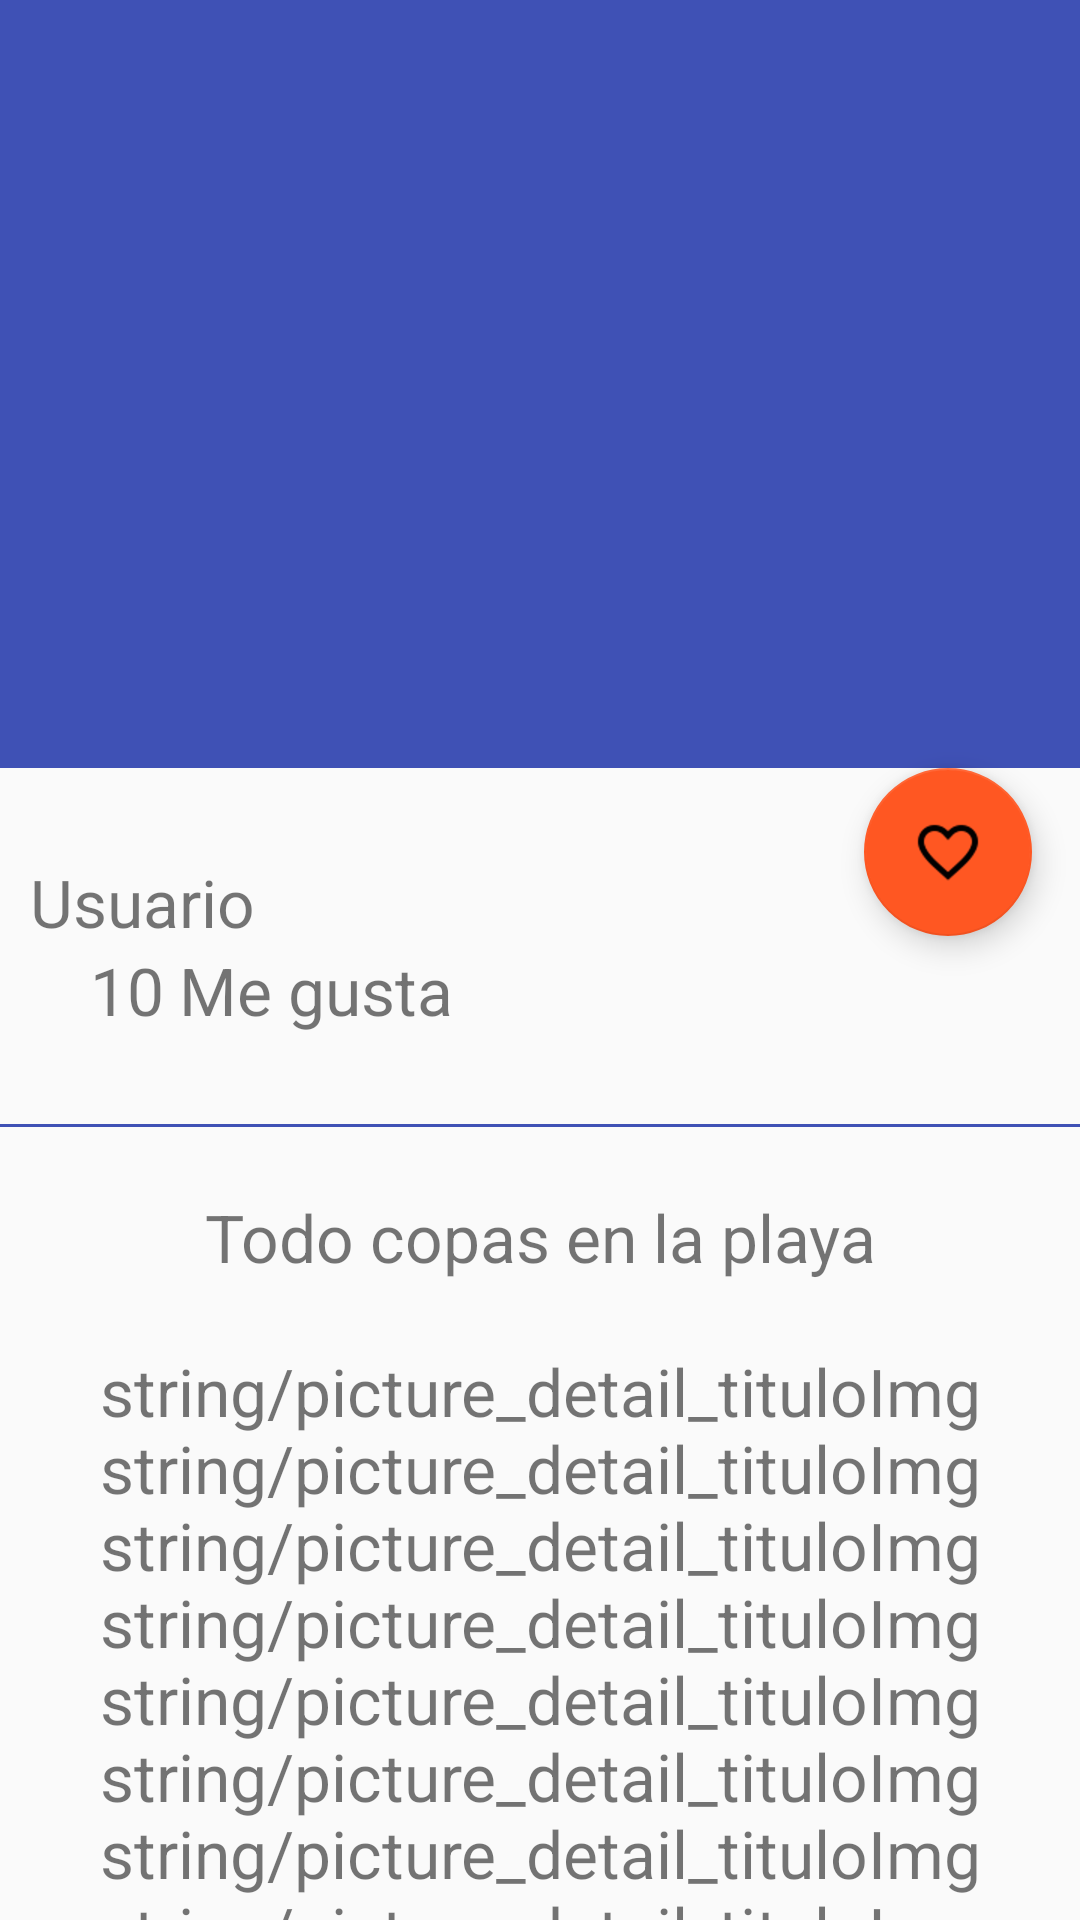

Named icons in this screenshot (1080 x 1920) and their bounding boxes, {"left": x1, "top": y1, "right": x2, "bottom": y2}:
heart: {"left": 864, "top": 768, "right": 1032, "bottom": 936}
